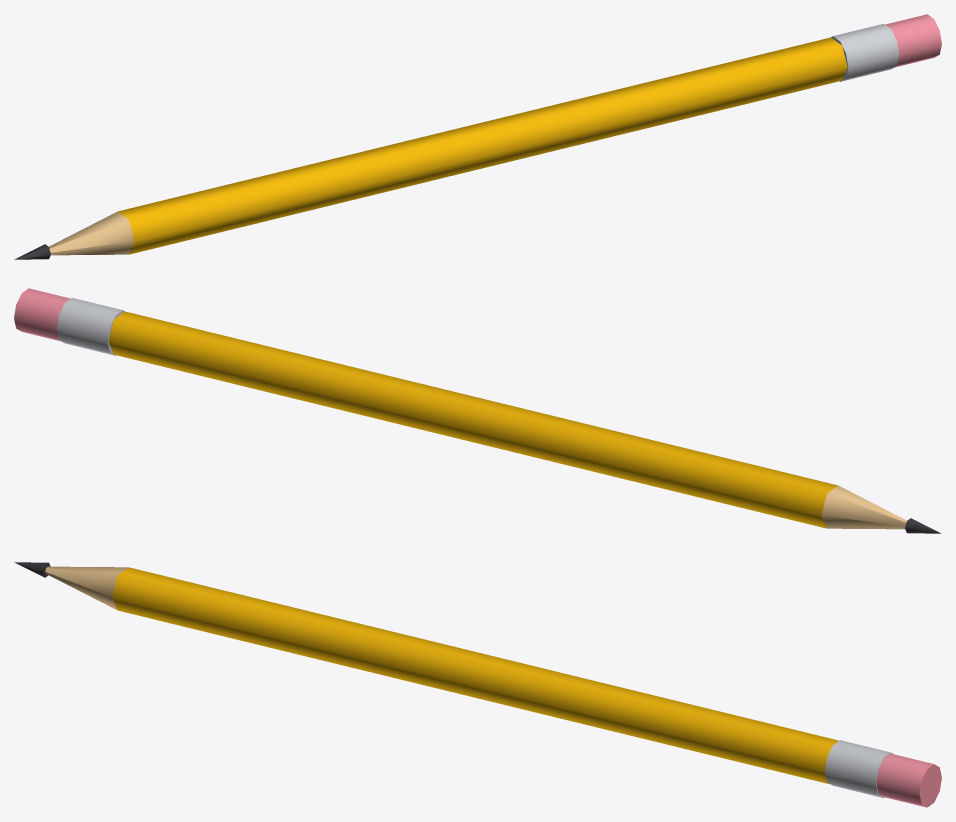
The model's file is pencil.glb.
3 views of the same model, one above another, from view 1: azimuth 30°, elevation 25°; view 2: azimuth 150°, elevation 25°; view 3: azimuth 330°, elevation 25° (orthographic).
Visible parts, largest first — view 1: pencil; view 2: pencil; view 3: pencil.
Part boxes in pixels (x1=…): pencil: x1=14, y1=14, x2=941, y2=259; pencil: x1=14, y1=288, x2=941, y2=533; pencil: x1=14, y1=562, x2=941, y2=807.
Bounding box in the file's own units: 17.99 × 0.7589 × 0.798.
